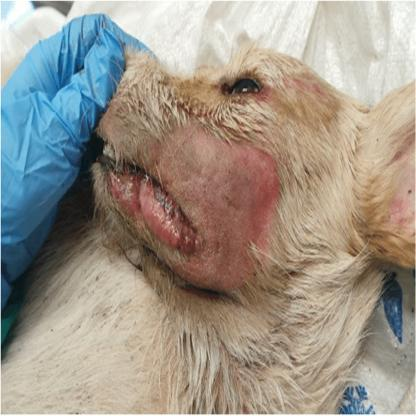dog: (68, 23, 416, 346)
injured: (100, 152, 184, 248)
